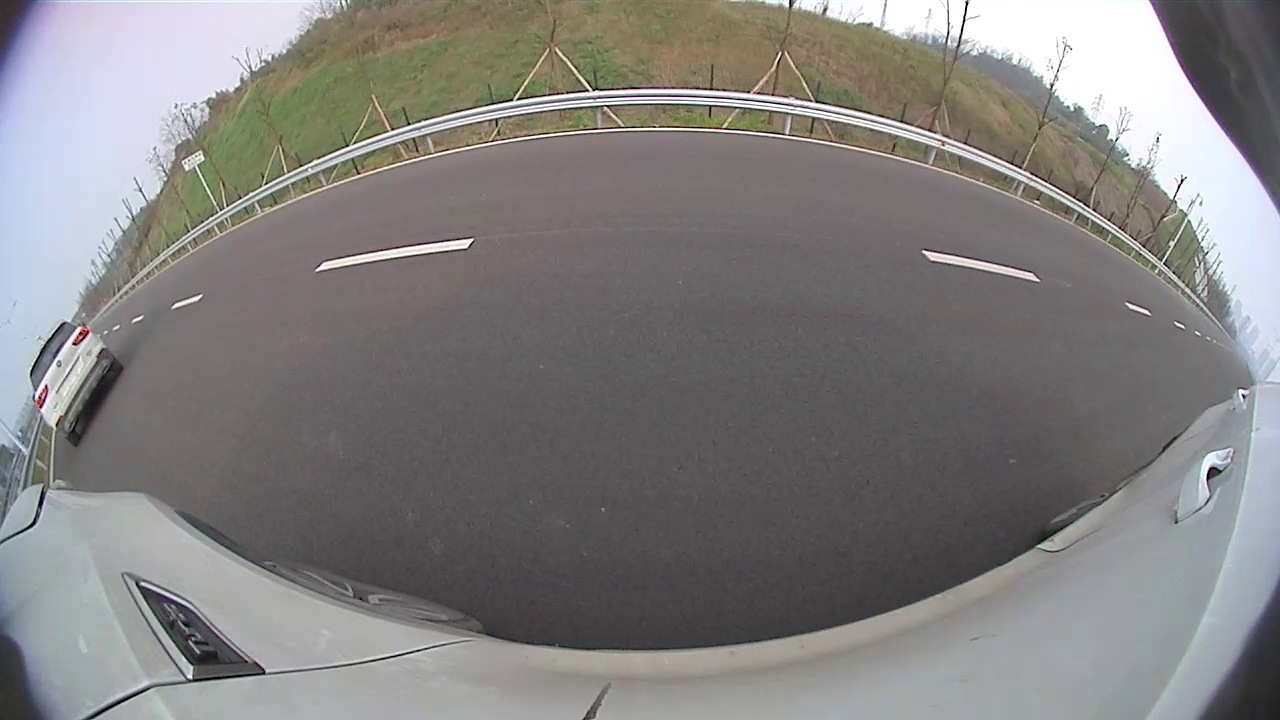car: (30, 322, 122, 447)
